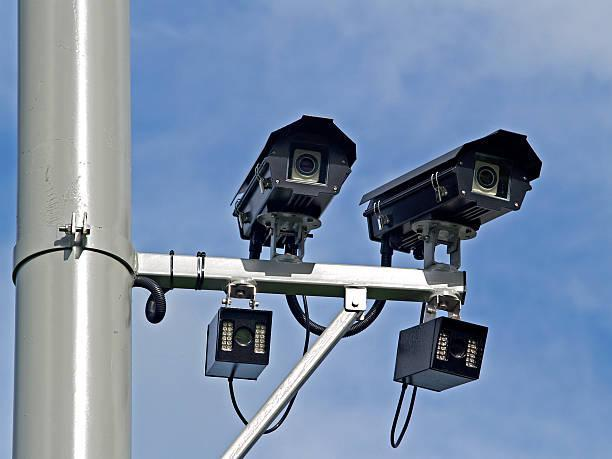camera: (356, 101, 561, 281), (226, 104, 365, 256)
